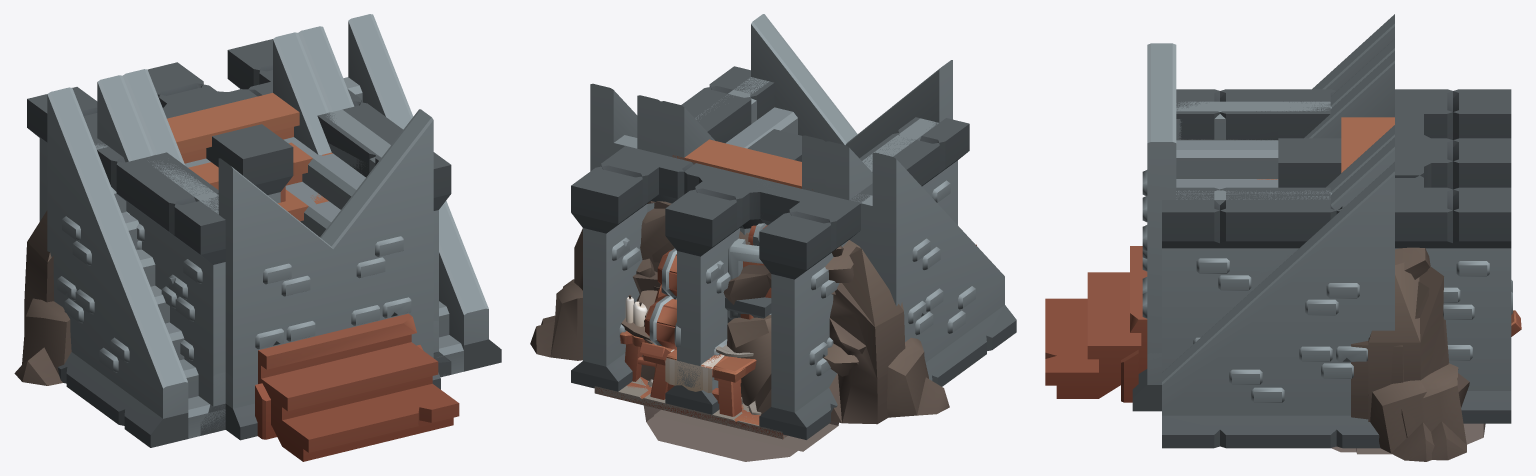
The model's file is dungeon.glb.
The picture shows the model from 3 angles, left to right: view 1: azimuth 30°, elevation 25°; view 2: azimuth 150°, elevation 25°; view 3: azimuth 270°, elevation 25°; orthographic projection. The views are drawn at different scales.
Visible parts, largest first — view 1: stairs_wide, stairs_wood, stairs_wall_right, stairs_walled, stairs_wall_left, stairs, wall_doorway_sides, stairs_narrow, rubble_large, wall_Tsplit, wall_crossing, wall_corner; view 2: wall_doorway_sides, stairs_wide, rubble_large, wall_crossing, stairs_walled, stairs_wall_right, stairs_wall_left, rubble_half, floor_tile_big_grate, stairs, stairs_narrow, stairs_wood (+14 smaller); view 3: stairs_wide, wall_doorway_sides, stairs_walled, stairs_wood, stairs_wall_left, rubble_half, rubble_large, stairs_wall_right, wall_crossing, stairs_narrow, stairs, wall_Tsplit (+3 smaller).
Boxes of the visible parts, x1,y1,x2,y2 form: stairs_wide: (47,14,501,447); stairs_wood: (167,93,459,461); stairs_wall_right: (225,81,440,439); stairs_walled: (92,90,451,435); stairs_wall_left: (148,82,440,440); stairs: (97,26,451,435); wall_doorway_sides: (27,39,392,241); stairs_narrow: (123,32,331,165); rubble_large: (14,210,71,385); wall_Tsplit: (163,83,293,203); wall_crossing: (147,62,292,179); wall_corner: (217,127,292,175); wall_doorway_sides: (571,146,915,439); stairs_wide: (590,83,1016,386); rubble_large: (541,231,949,424); wall_crossing: (649,164,777,414); stairs_walled: (636,66,969,224); stairs_wall_right: (638,14,857,203); stairs_wall_left: (636,60,952,224); rubble_half: (530,201,671,380); floor_tile_big_grate: (594,377,797,461); stairs: (637,95,872,200); stairs_narrow: (660,101,825,194); stairs_wood: (672,139,976,245); stairs_wide: (1162,14,1394,448); wall_doorway_sides: (1278,89,1511,423); stairs_walled: (1162,89,1345,372); stairs_wood: (1045,117,1394,402); stairs_wall_left: (1132,43,1423,411); rubble_half: (1368,247,1469,460); rubble_large: (1351,281,1434,461); stairs_wall_right: (1133,101,1423,406); wall_crossing: (1395,128,1511,192); stairs_narrow: (1304,51,1394,193); stairs: (1178,39,1394,357); wall_Tsplit: (1278,128,1423,199).
Bounding box in the file's own units: 8.13 × 6.3 × 8.18.
1 material, 1 textured.
